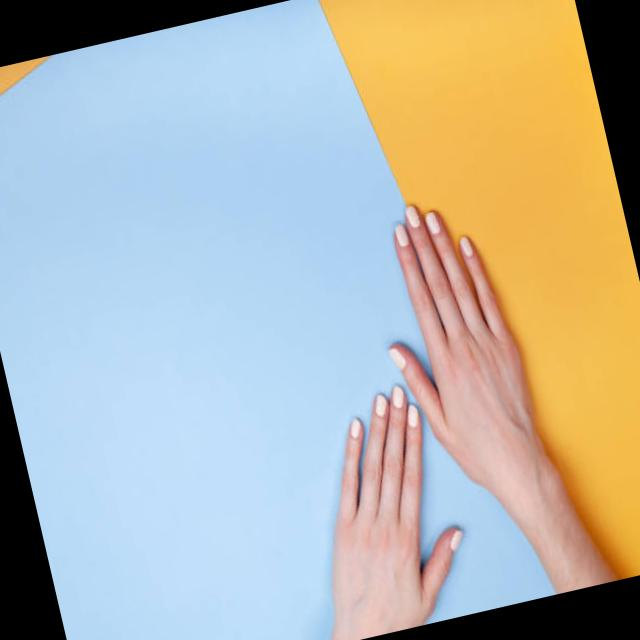Nail: (386, 345, 405, 369), (423, 209, 439, 233), (393, 221, 407, 246), (404, 203, 419, 226), (405, 402, 418, 427), (458, 234, 472, 256), (390, 384, 403, 407), (448, 528, 461, 551), (373, 393, 385, 416), (348, 417, 360, 438)
